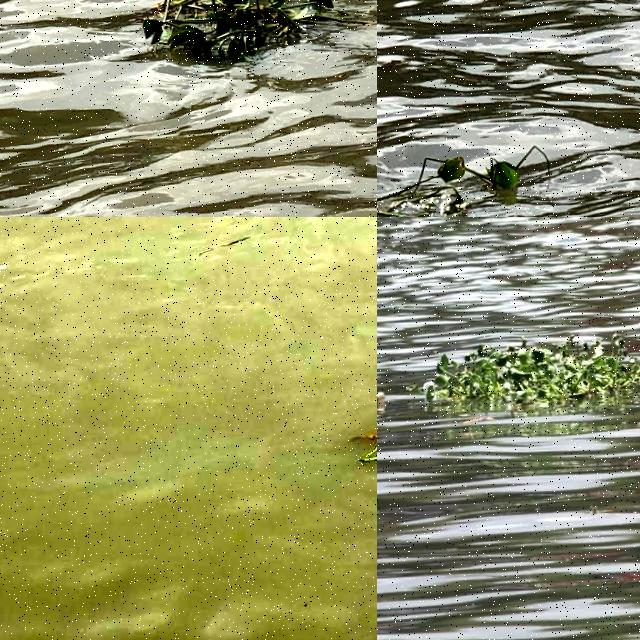water-hyacinth: (421, 324, 640, 410), (378, 138, 565, 218), (140, 1, 338, 62)
